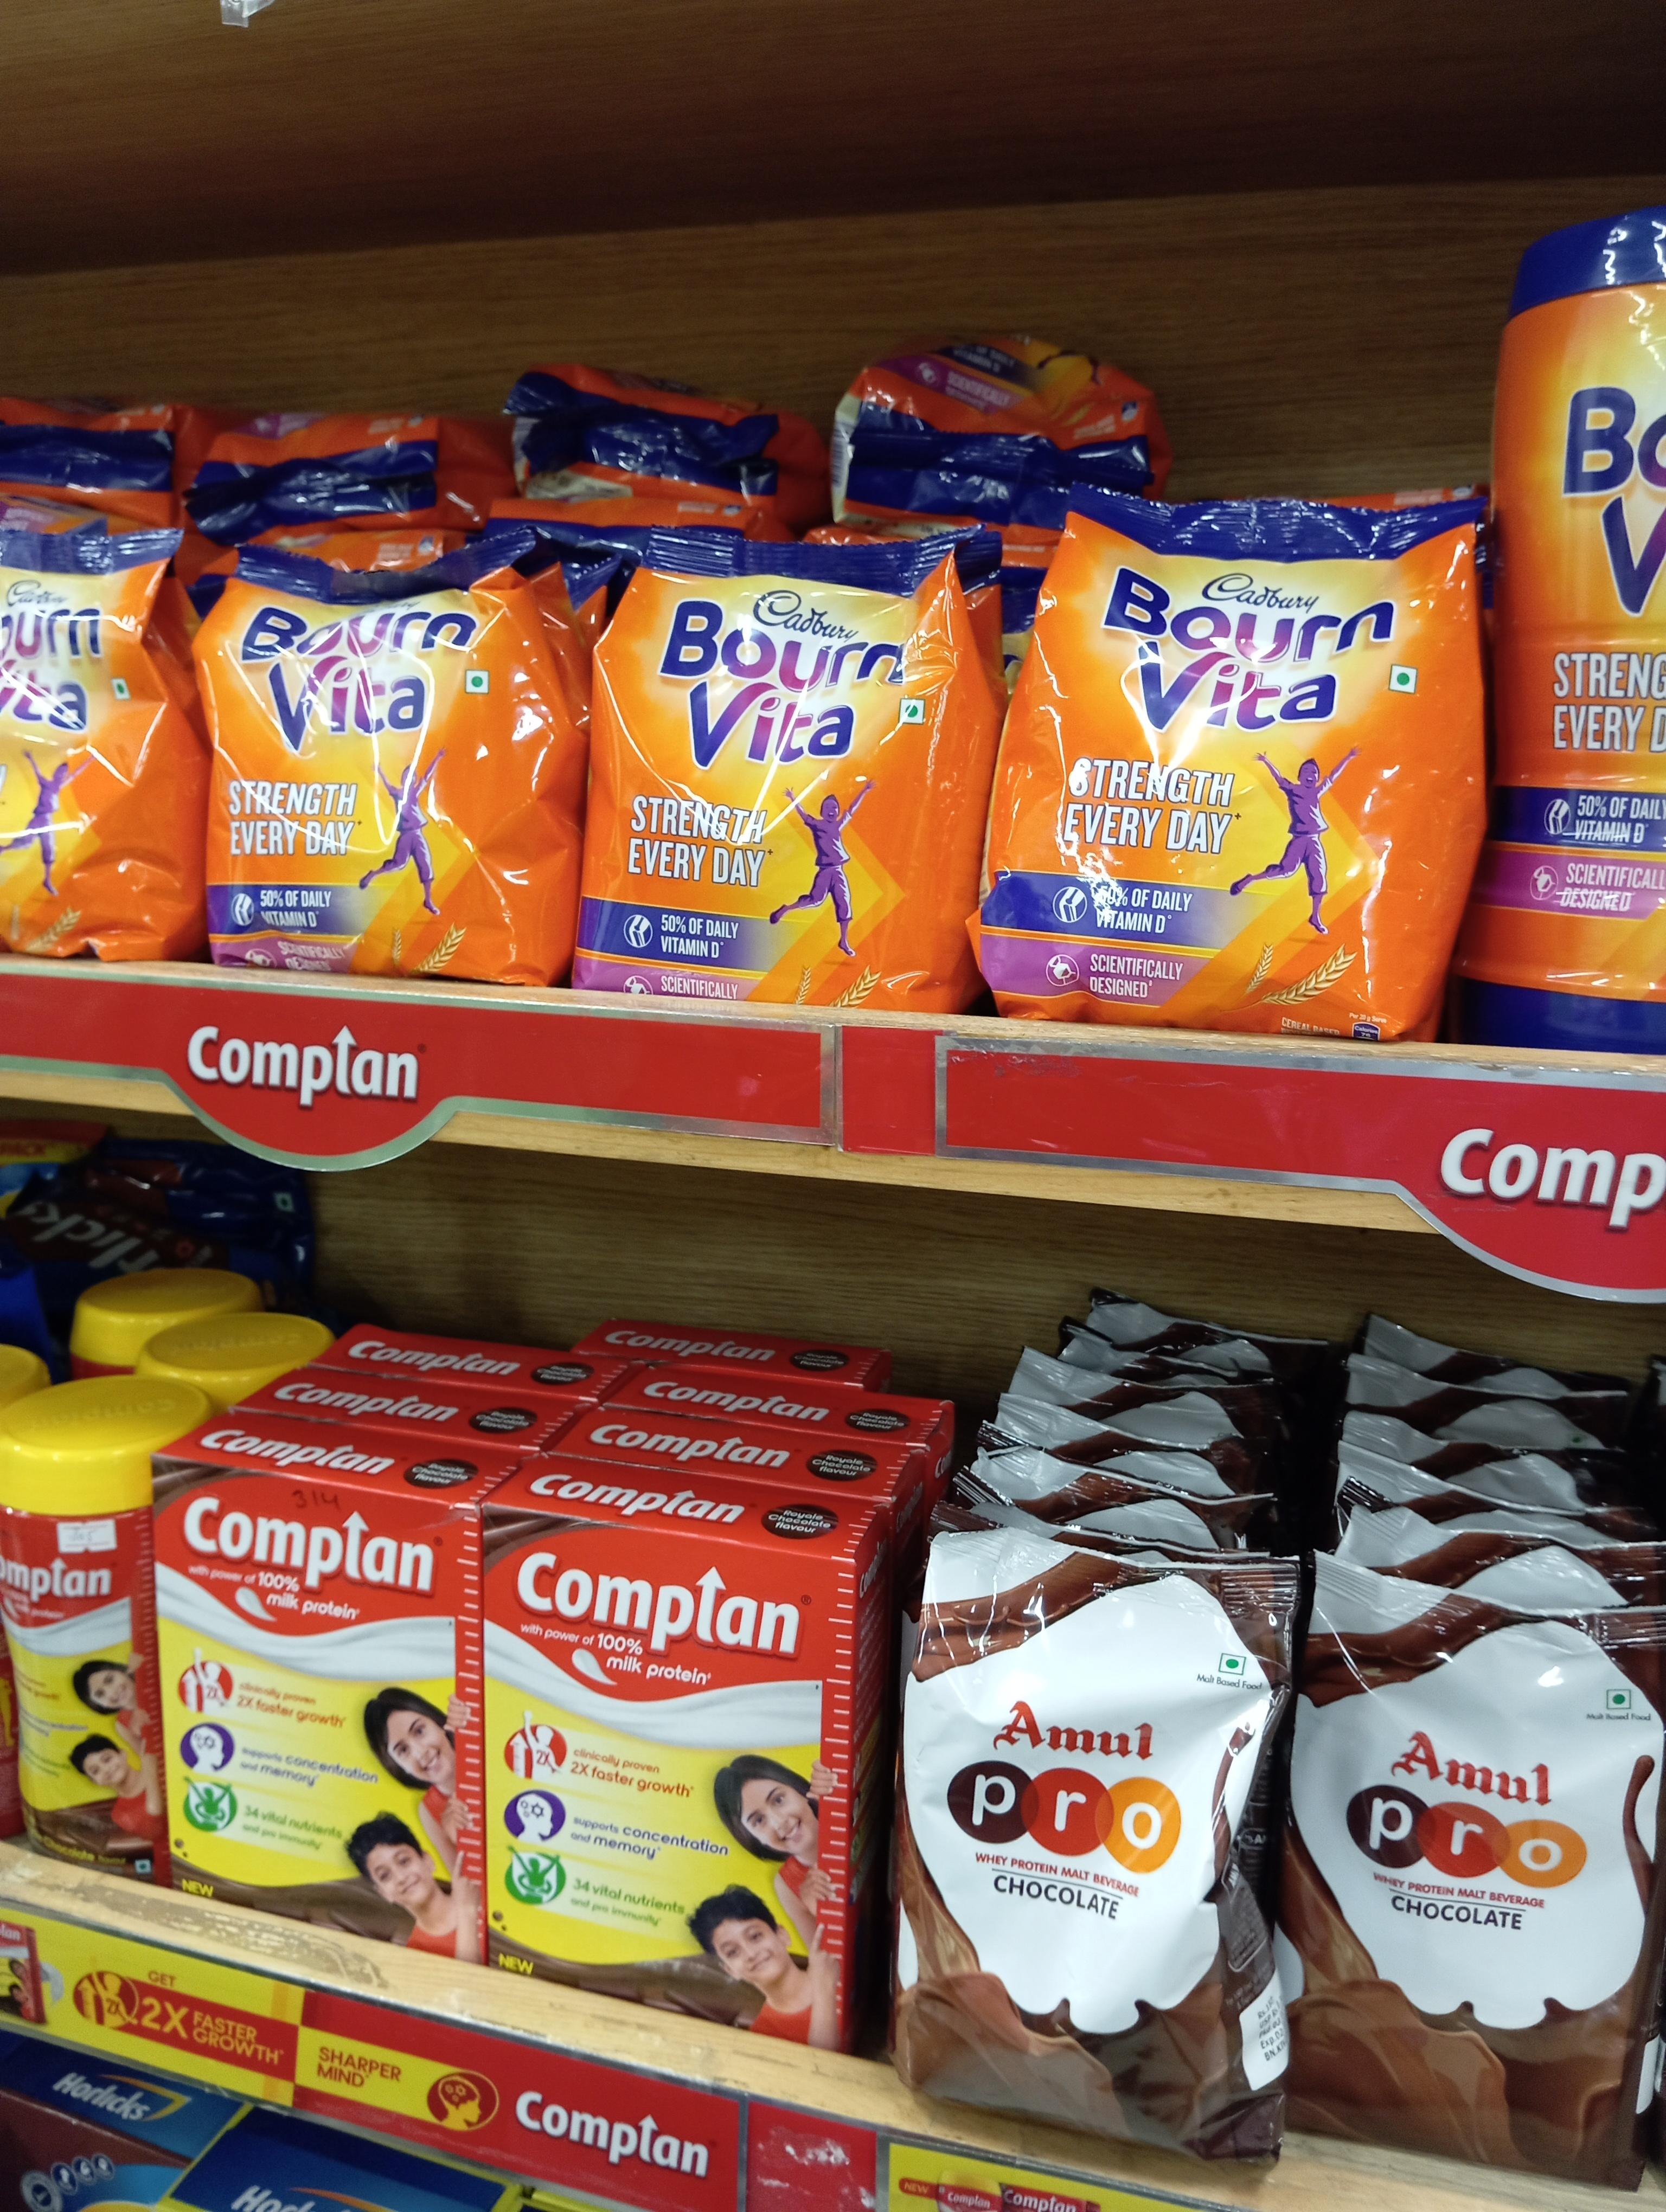BOURN_VITA_500_G_POUCH: (1010, 477, 1439, 1032), (593, 507, 943, 1004), (192, 544, 558, 988)
COMPLAN_CHOCOLATE_500_GMS_JAR: (0, 1404, 144, 1885)
COMPLAN_CHOCOLATE_500_GMS_PACK: (487, 1495, 836, 2000), (154, 1464, 476, 1953)
